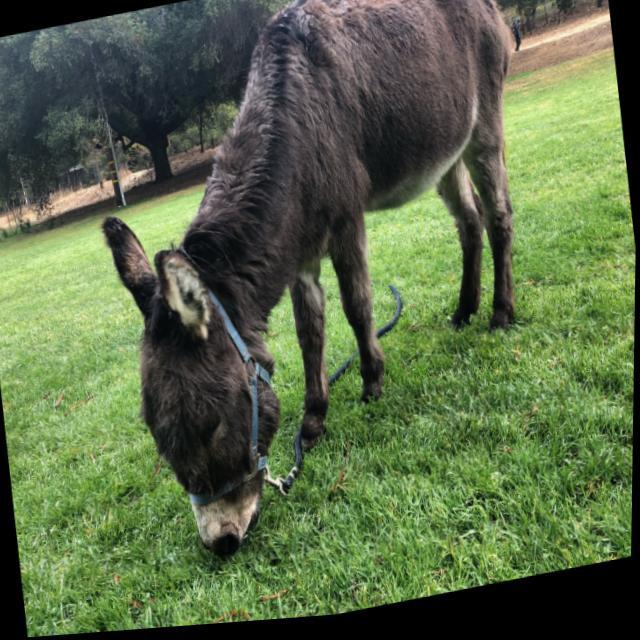Donkey: (48, 0, 586, 582), (58, 188, 317, 627)
